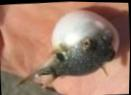fish: (19, 11, 119, 84)
